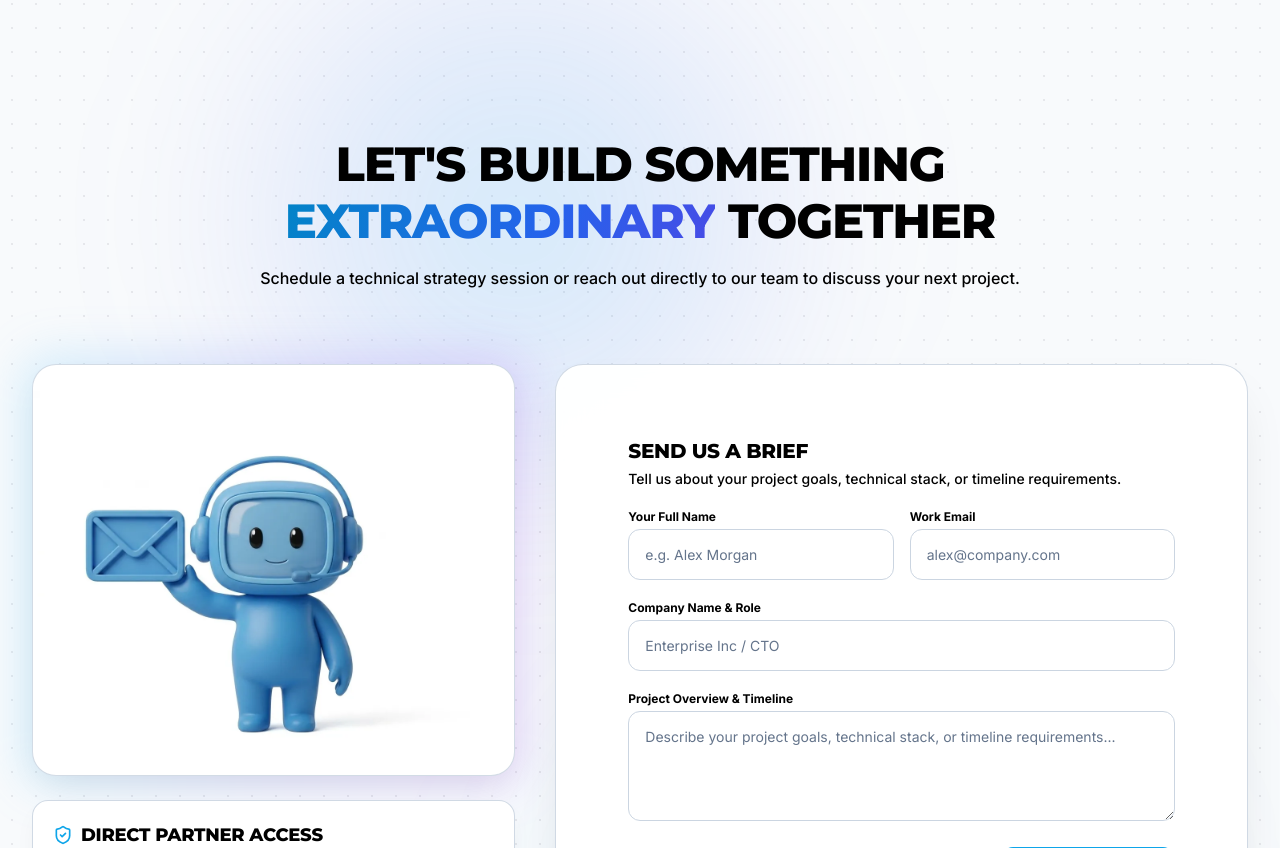
Test case: ContactPage form › shows a confirmation only after the server accepts
Type "John Doe" into the field labelled "Your Full Name" at [761, 555], box [628,529,894,580]
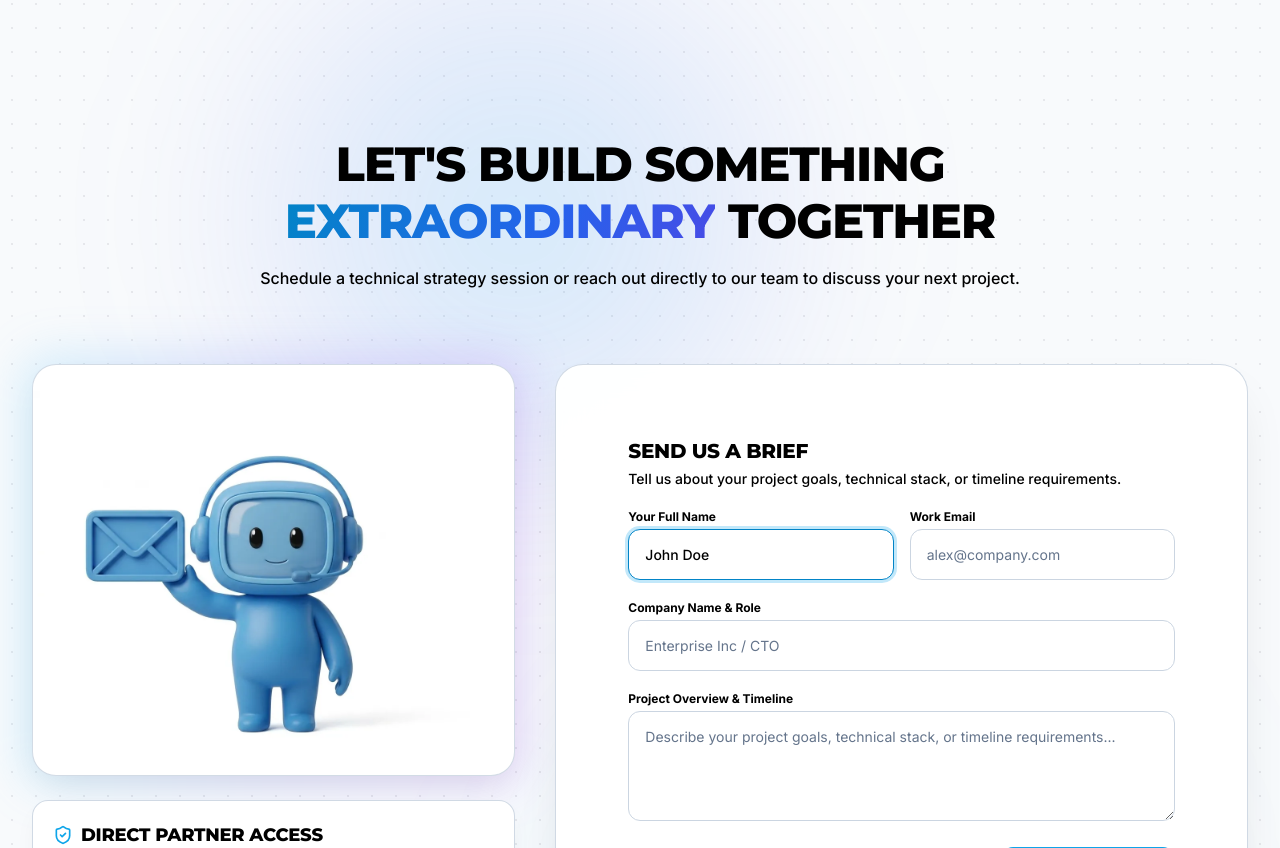
Type "john@company.com" into the field labelled "Work Email" at [1042, 555], box [910,529,1175,580]
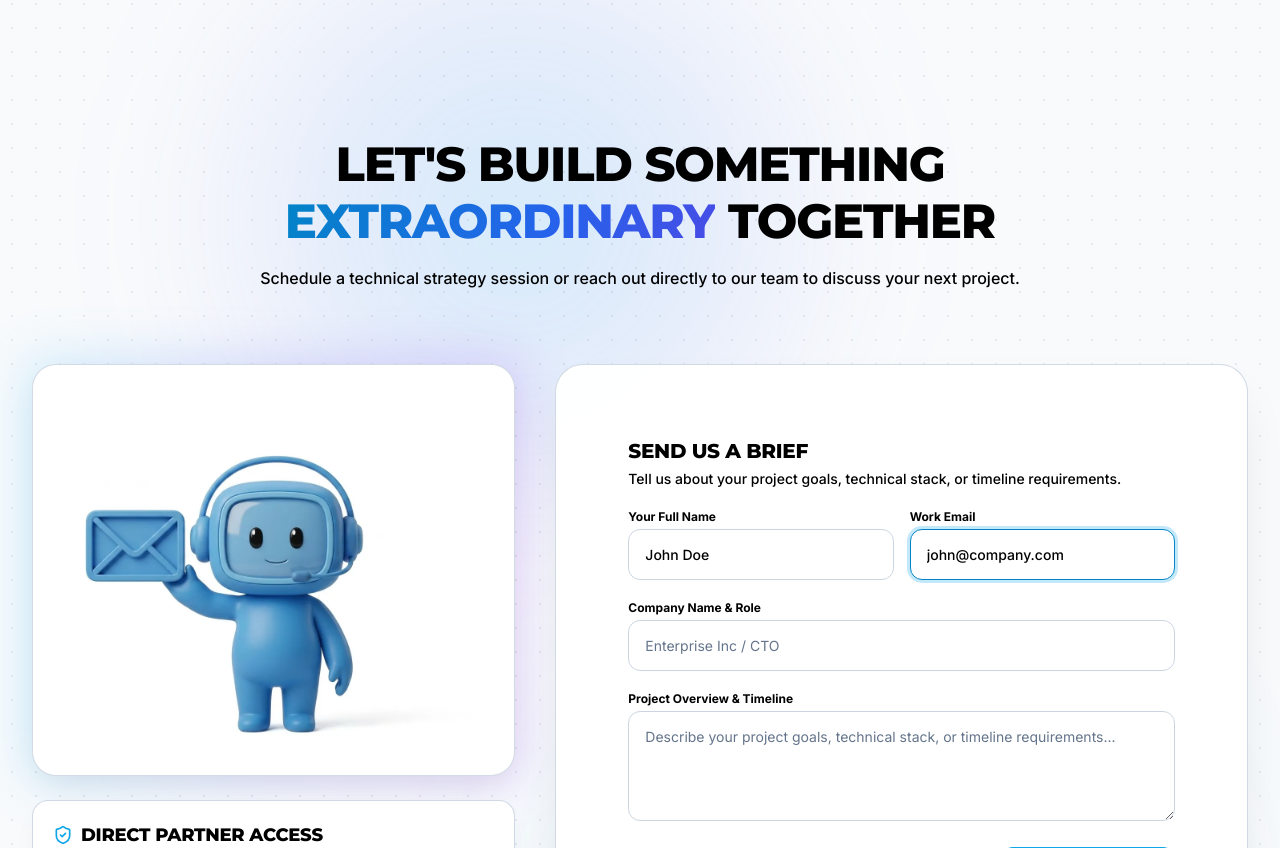
Type "A new site." into the text box labelled "Project Overview & Timeline" at [902, 766], box [628,711,1175,821]
(page scrolled)
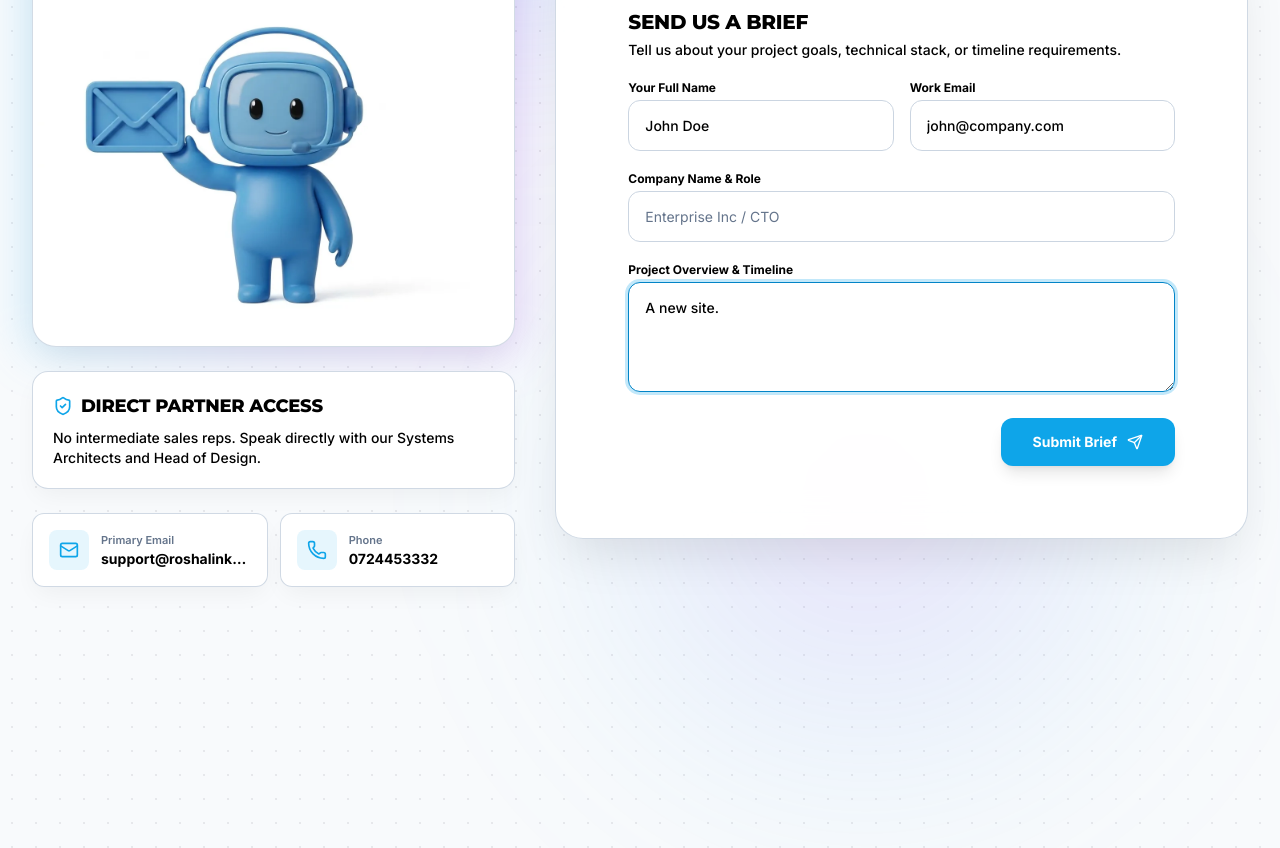
Click the button "Submit Brief" at [1088, 442], box [1000,418,1175,466]
(page scrolled)
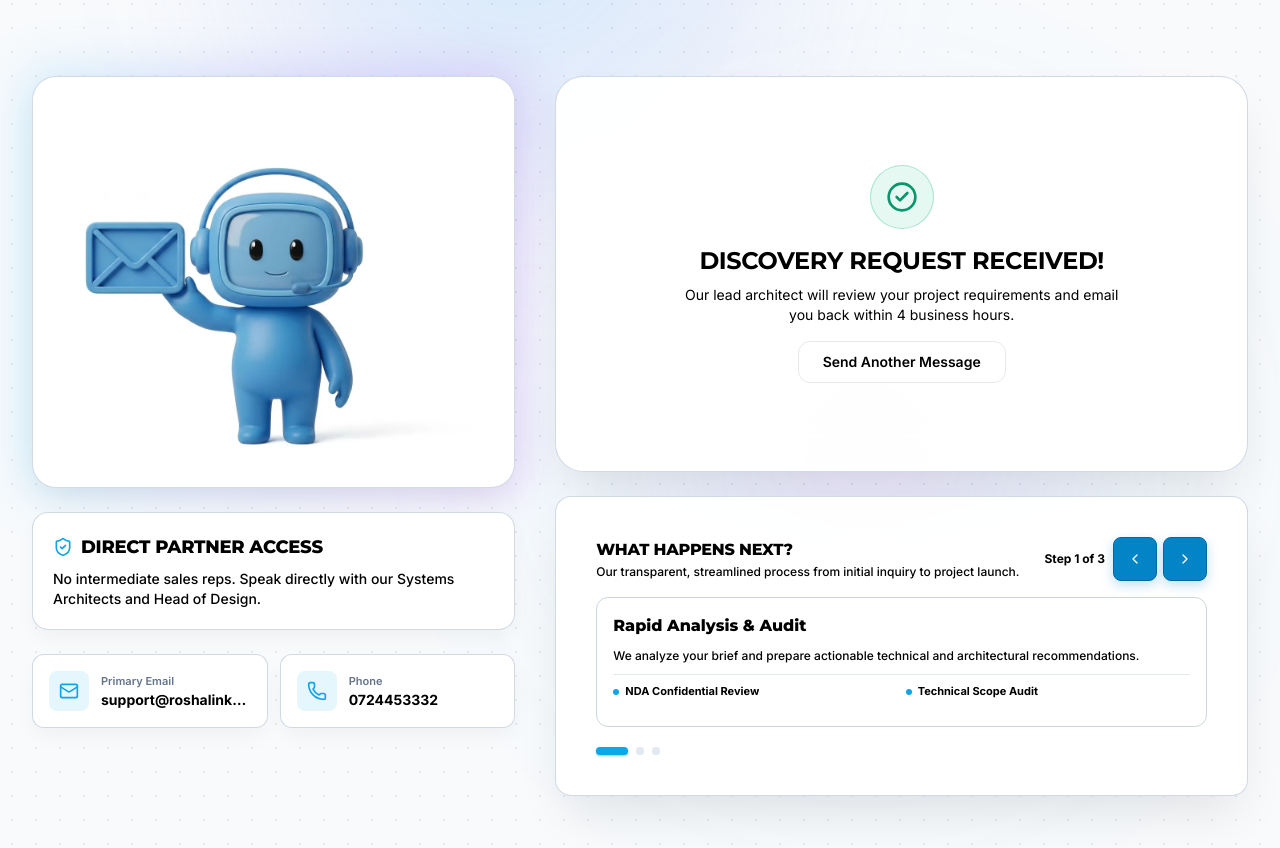
Now the button "Submit Brief" is gone
